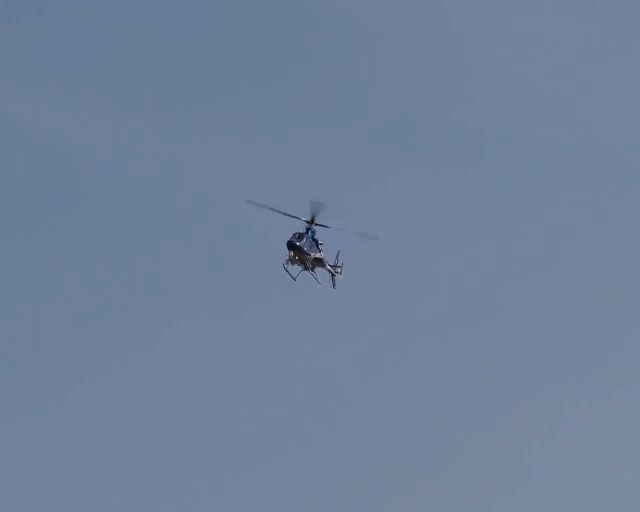HELICOPTER: (245, 197, 379, 288)
